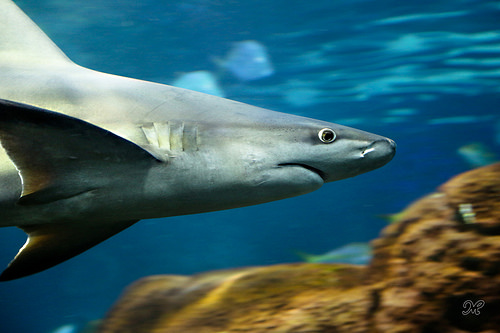shark: (2, 1, 411, 281)
